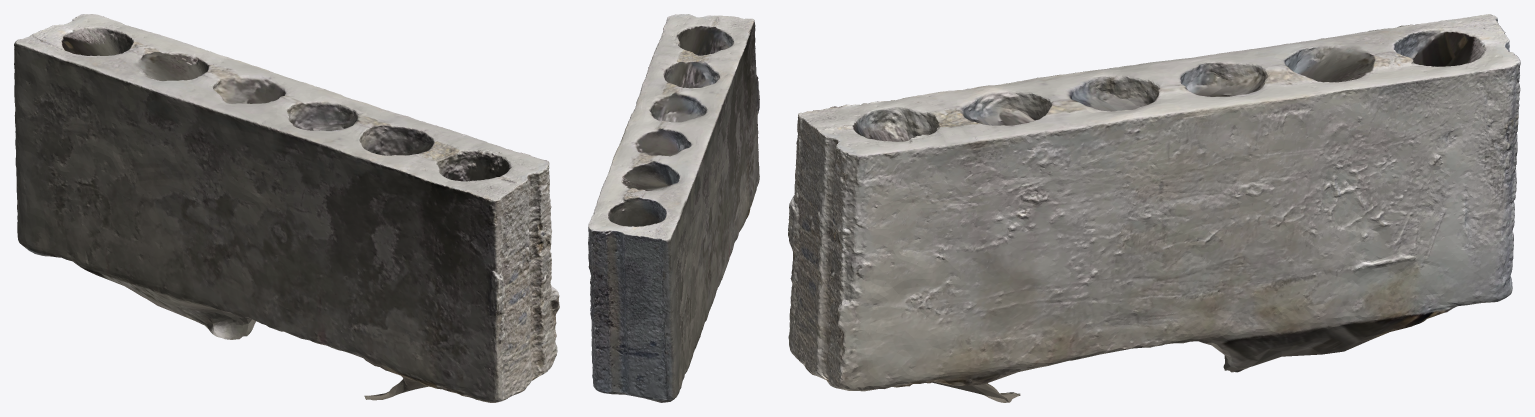
3 views of the same model, side by side, from view 1: azimuth 30°, elevation 25°; view 2: azimuth 150°, elevation 25°; view 3: azimuth 270°, elevation 25° (orthographic). The views are drawn at different scales.
Size of the model in its own units: 0.7671 by 0.6952 by 1.5.
1 material, 1 textured.
